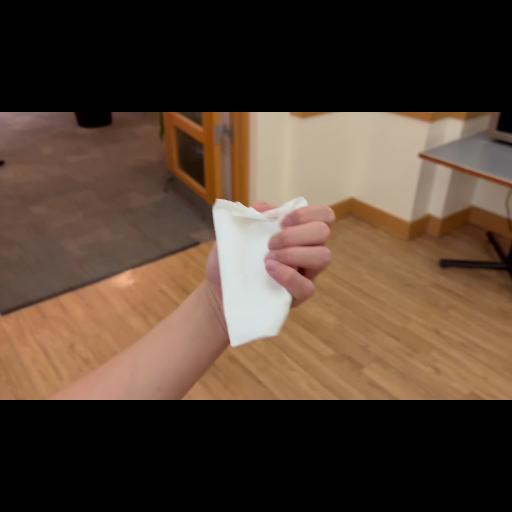napkin: (208, 197, 340, 355)
